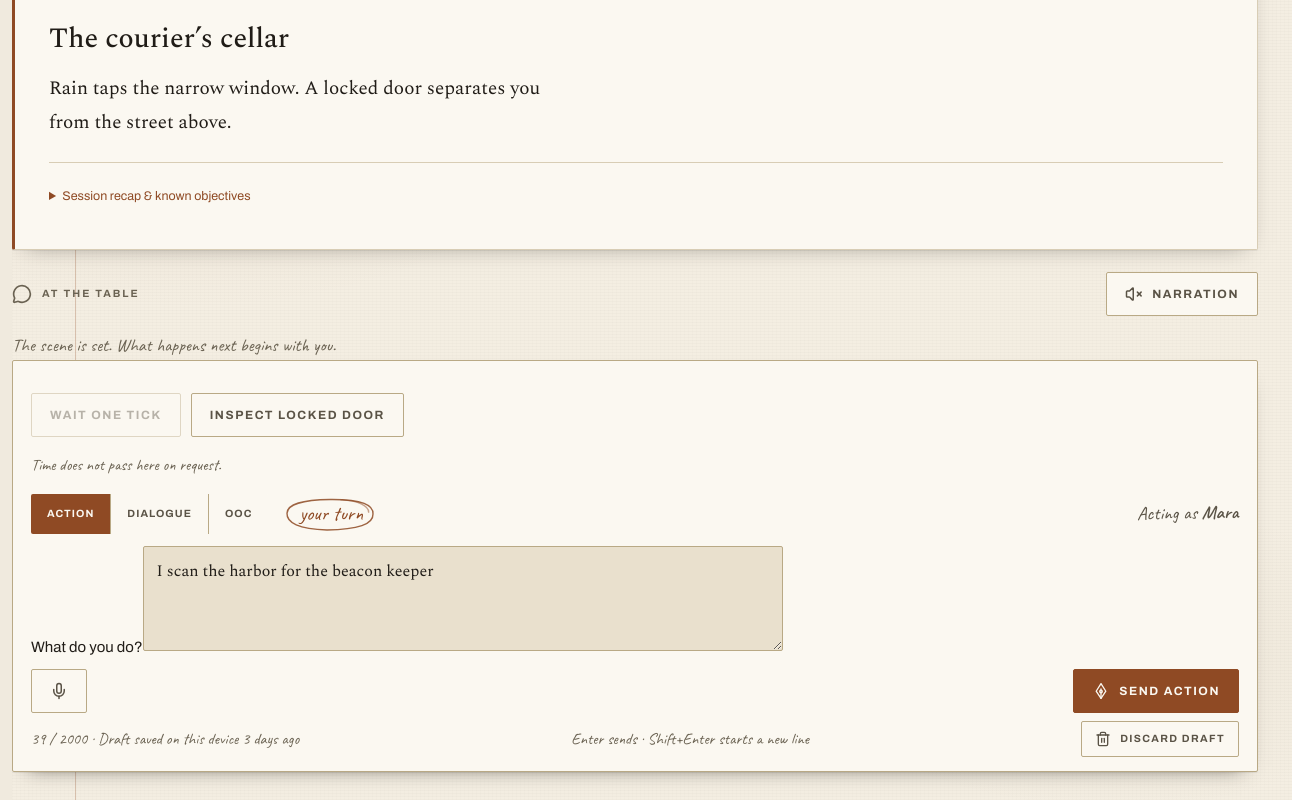
Test: labels a restored draft with its age and discards it in one interaction (#201)
The width and height of the screenshot is (1292, 800).
(page scrolled)
Expected: the text box labelled "What do you do?" holds "I scan the harbor for the beacon keeper", [143,546,783,651]
Expected: the text "39 / 2000 · Draft saved on this device 3 days ago" is shown, [31,727,299,752]
Step 1. Click the button "Discard draft" → [1160, 740], box [1081,722,1239,758]
(page scrolled)
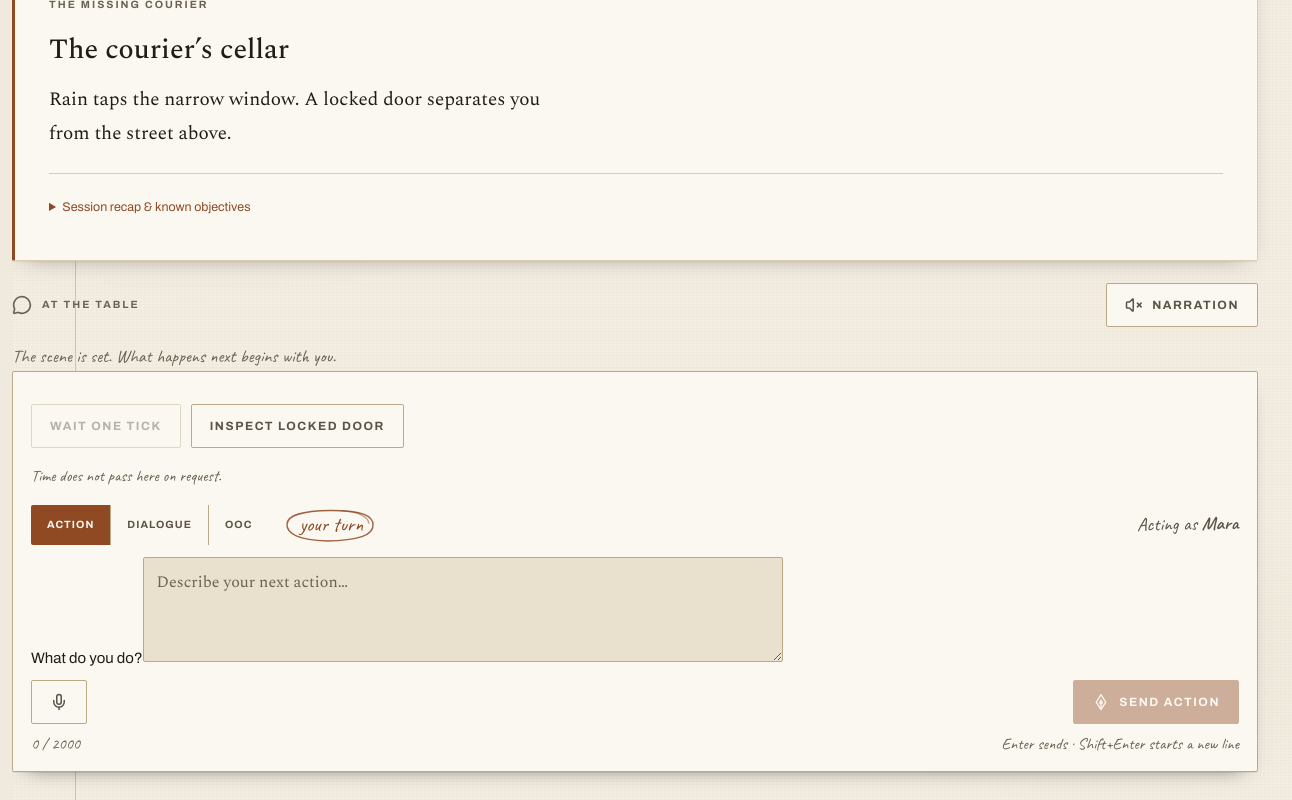
Result: the text box labelled "What do you do?" is empty at [143,557,783,662]
Result: the button "Discard draft" is gone
